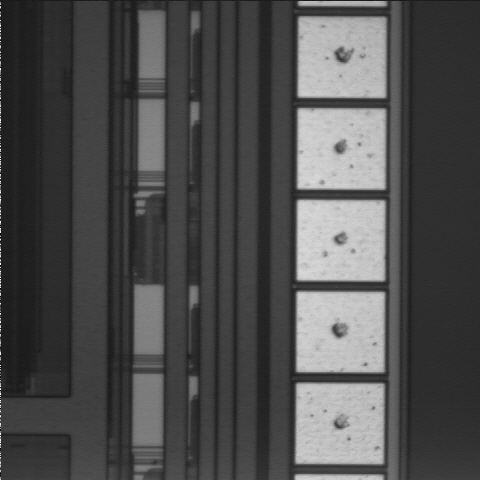pad: (297, 200, 385, 280), (298, 109, 385, 189), (297, 292, 384, 372), (296, 384, 383, 464), (298, 18, 385, 97)
